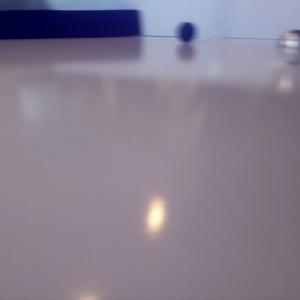zone: (1, 9, 140, 40)
